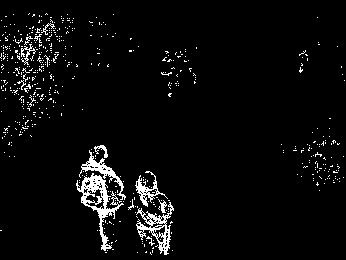person: (77, 144, 126, 253), (136, 169, 174, 260)
